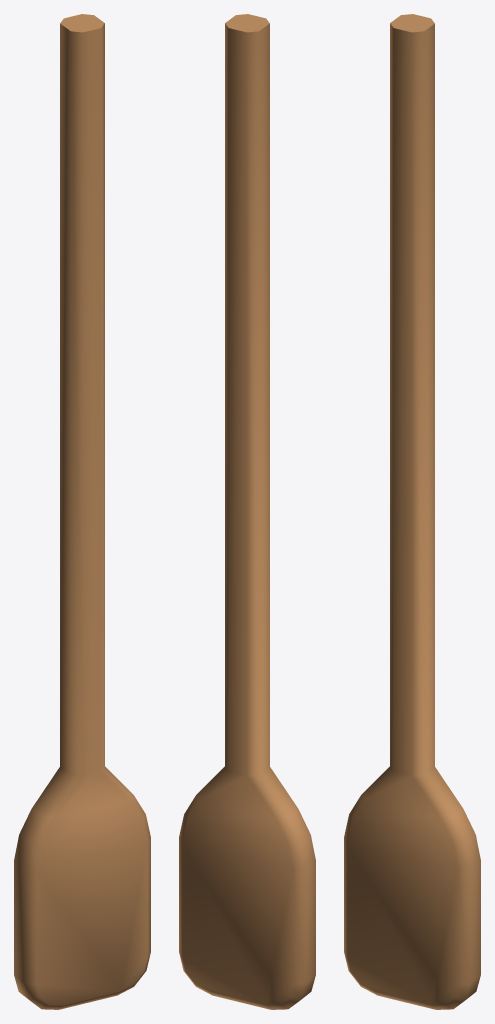
The model's file is SM_Paddle_01.fbx.
The picture shows the model from 3 angles, left to right: view 1: azimuth 30°, elevation 25°; view 2: azimuth 150°, elevation 25°; view 3: azimuth 330°, elevation 25°; orthographic projection.
Parts seen in each view (by area): view 1: Cube.022; view 2: Cube.022; view 3: Cube.022.
Boxes of the visible parts, x1=… form: Cube.022: x1=14, y1=14, x2=150, y2=1009; Cube.022: x1=179, y1=14, x2=315, y2=1009; Cube.022: x1=344, y1=14, x2=480, y2=1009.
Size of the model in its own units: 0.5386 by 3.98 by 0.1421.
